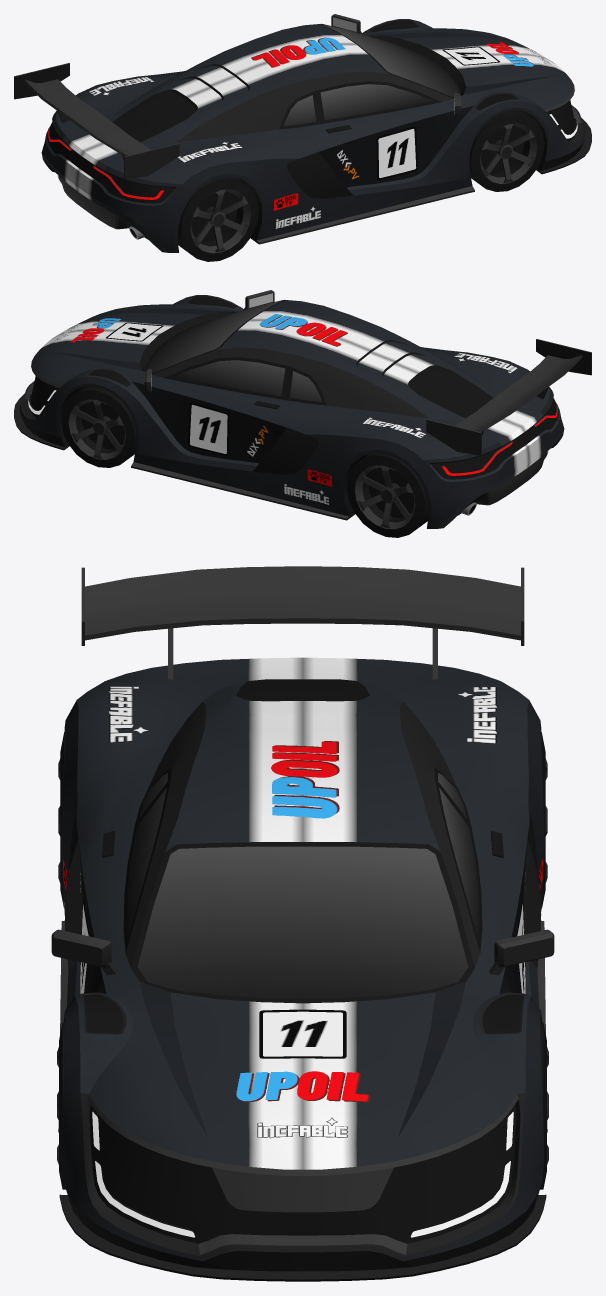
File: RaceCar_064.glb
3 views of the same model, one above another, from view 1: azimuth 30°, elevation 25°; view 2: azimuth 150°, elevation 25°; view 3: azimuth 270°, elevation 25° (orthographic). The views are drawn at different scales.
Visible parts, largest first — view 1: RaceCar_064, wheel_3_RaceCar_064_Wheel_2R, wheel_1_RaceCar_064_Wheel_1R; view 2: RaceCar_064, wheel_2_RaceCar_064_Wheel_2L, wheel_0_RaceCar_064_Wheel_1L; view 3: RaceCar_064.
Part boxes in pixels (x1=…): RaceCar_064: x1=14, y1=14, x2=591, y2=252; wheel_3_RaceCar_064_Wheel_2R: x1=178, y1=177, x2=258, y2=261; wheel_1_RaceCar_064_Wheel_1R: x1=469, y1=110, x2=544, y2=191; RaceCar_064: x1=14, y1=290, x2=591, y2=528; wheel_2_RaceCar_064_Wheel_2L: x1=347, y1=453, x2=427, y2=537; wheel_0_RaceCar_064_Wheel_1L: x1=61, y1=386, x2=136, y2=467; RaceCar_064: x1=51, y1=566, x2=554, y2=1281.
Size of the model in its own units: 4.77 by 1.2 by 2.07.
3 materials, 3 textured.
